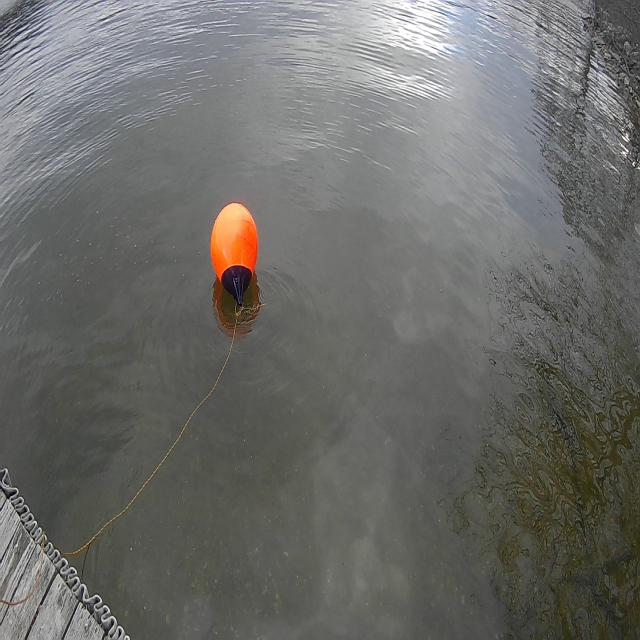Buoy: (208, 199, 259, 285)
